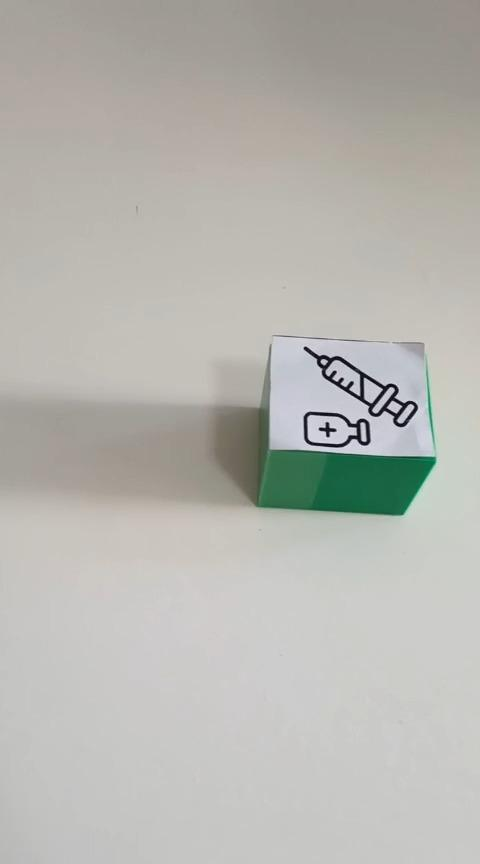antiseptic cream: (254, 333, 437, 516)
